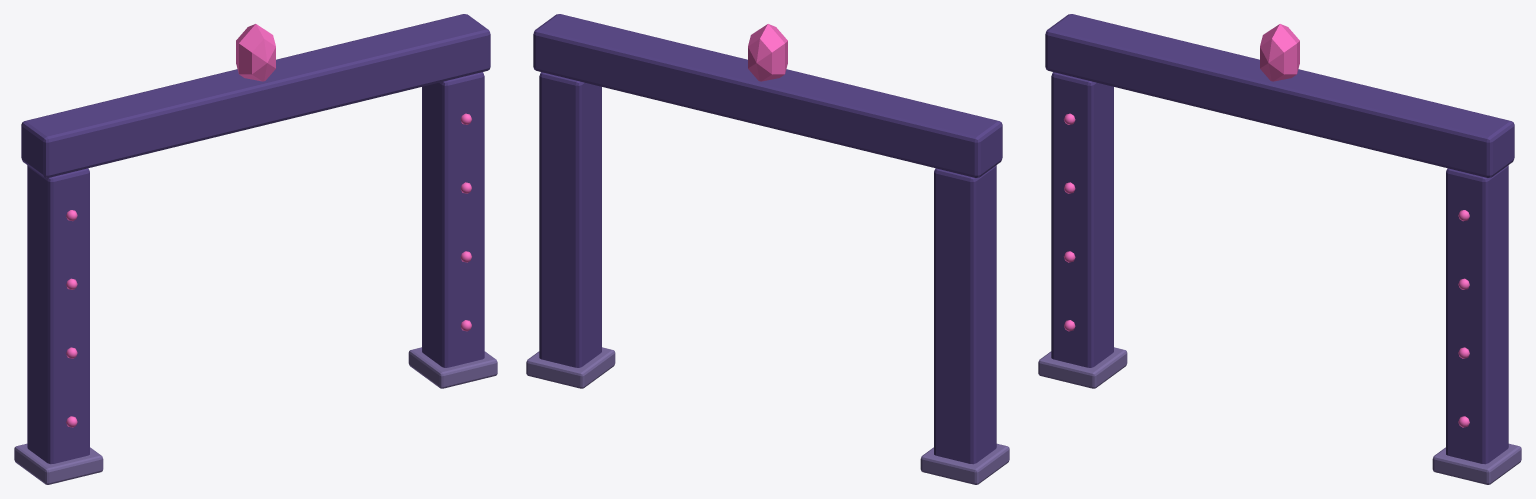
File: PortalArch.fbx
3 renders of one model, left to right at view 1: azimuth 30°, elevation 25°; view 2: azimuth 150°, elevation 25°; view 3: azimuth 330°, elevation 25°, orthographic.
Parts seen in each view (by area): view 1: PortalArch; view 2: PortalArch; view 3: PortalArch.
Part boxes in pixels (x1=…): PortalArch: x1=14, y1=14, x2=497, y2=484; PortalArch: x1=526, y1=14, x2=1009, y2=484; PortalArch: x1=1038, y1=14, x2=1521, y2=484.
Bounding box in the file's own units: 34.4 × 28.75 × 4.4.
Materials: 1 (1 with a texture image).
